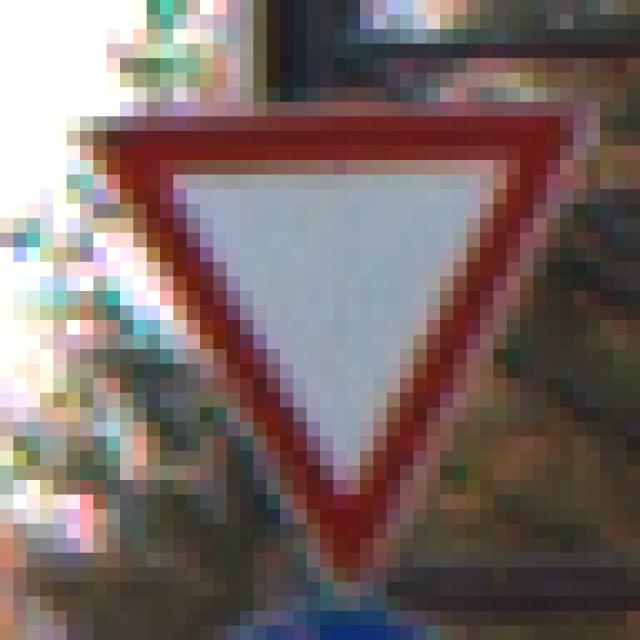Give Way: (68, 89, 561, 569)
